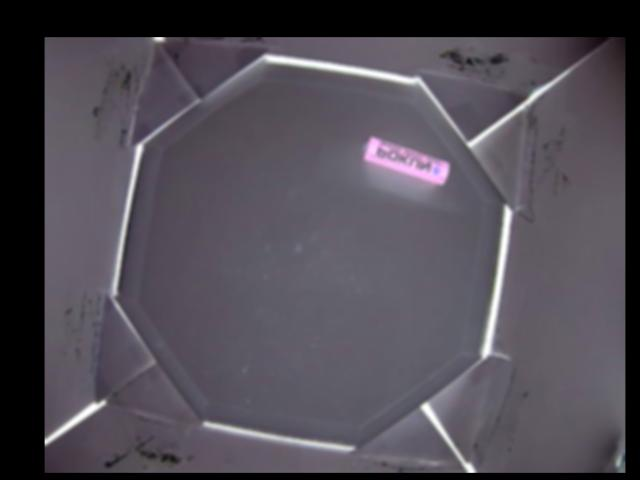Battery: (362, 136, 450, 185)
